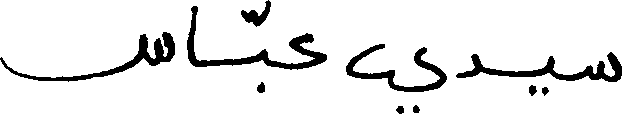ا: (187, 3, 195, 67)
ب: (256, 41, 267, 93)
د: (453, 51, 482, 77)
س: (0, 30, 175, 82), (589, 49, 621, 82)
ع: (288, 30, 324, 69)
ي: (346, 42, 446, 112), (527, 54, 553, 97)
